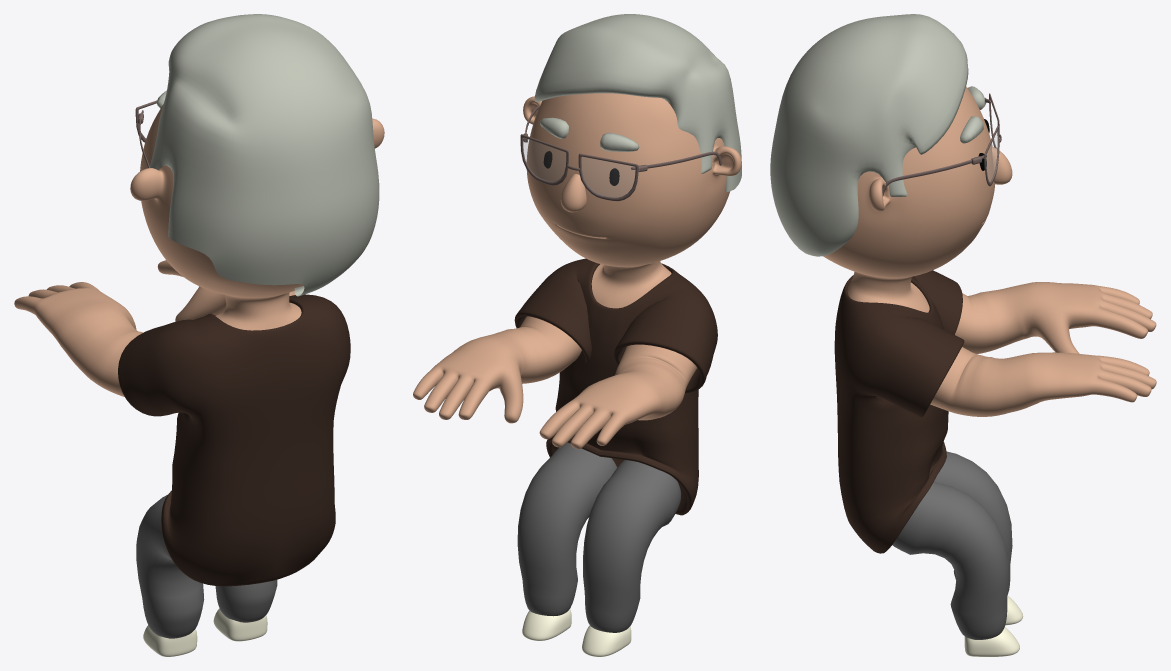
Rendered from monteur.gltf.
3 renders of one model, left to right at view 1: azimuth 30°, elevation 25°; view 2: azimuth 150°, elevation 25°; view 3: azimuth 270°, elevation 25°, orthographic. The views are drawn at different scales.
Parts seen in each view (by area): view 1: Hair_12, T-shirt.001, body.002, Cube.023, Cube.024, Cube.001, Cube.026; view 2: body.002, T-shirt.001, Hair_12, Cube.023, Cube.024, eyeglass_1, Cube.001, Cube.026, Eyebrow.009, nose.002; view 3: body.002, Hair_12, T-shirt.001, Cube.024, Cube.023, eyeglass_1, Cube.001, Eyebrow.009.
Part boxes in pixels (<box>): Hair_12: <box>149,14,379,296</box>; T-shirt.001: <box>118,294,350,586</box>; body.002: <box>14,104,384,396</box>; Cube.023: <box>136,494,204,638</box>; Cube.024: <box>215,580,277,622</box>; Cube.001: <box>213,608,267,641</box>; Cube.026: <box>143,625,197,656</box>; body.002: <box>413,93,741,449</box>; T-shirt.001: <box>514,258,717,515</box>; Hair_12: <box>534,14,741,191</box>; Cube.023: <box>583,460,681,632</box>; Cube.024: <box>517,442,617,616</box>; eyeglass_1: <box>520,106,721,201</box>; Cube.001: <box>522,609,571,640</box>; Cube.026: <box>582,625,631,656</box>; Eyebrow.009: <box>540,117,639,151</box>; nose.002: <box>560,174,586,212</box>; body.002: <box>823,86,1156,416</box>; Hair_12: <box>770,14,968,256</box>; T-shirt.001: <box>834,270,964,553</box>; Cube.024: <box>892,481,1009,639</box>; Cube.023: <box>934,451,1012,594</box>; eyeglass_1: <box>882,93,1001,195</box>; Cube.001: <box>964,627,1019,656</box>; Eyebrow.009: <box>960,86,985,143</box>.
Bounding box in the file's own units: 3.79 × 9.55 × 5.5.
